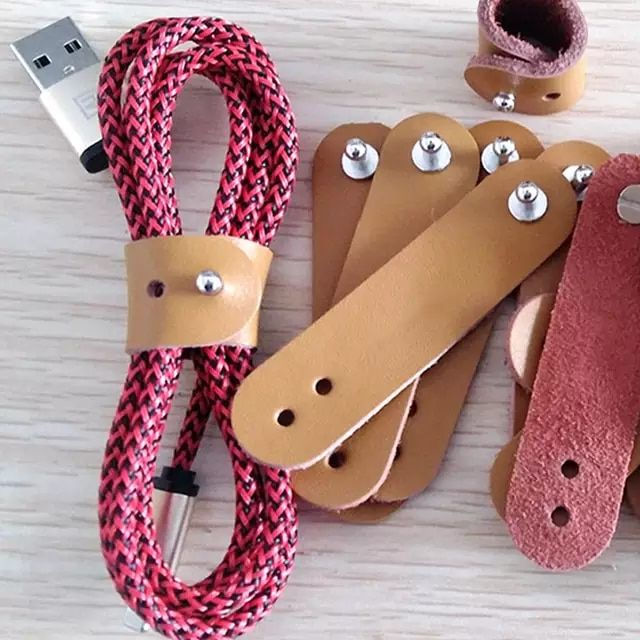cuero: (125, 1, 640, 571)
